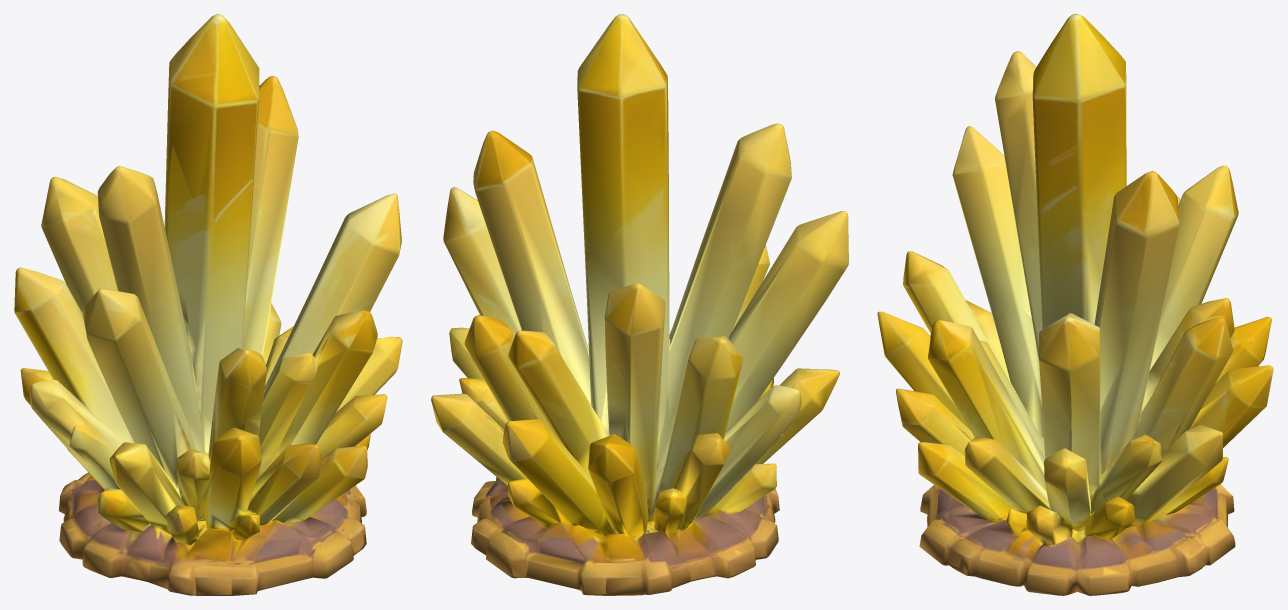
Rendered from crystal.glb.
3 renders of one model, left to right at view 1: azimuth 30°, elevation 25°; view 2: azimuth 150°, elevation 25°; view 3: azimuth 270°, elevation 25°, orthographic.
Visible parts, largest first — view 1: node_0; view 2: node_0; view 3: node_0.
Part boxes in pixels (x1=…): node_0: x1=14, y1=14, x2=402, y2=595; node_0: x1=431, y1=14, x2=848, y2=595; node_0: x1=877, y1=14, x2=1273, y2=595.
Bounding box in the file's own units: 0.7654 × 1.04 × 0.7201.
Materials: 1 (1 with a texture image).
